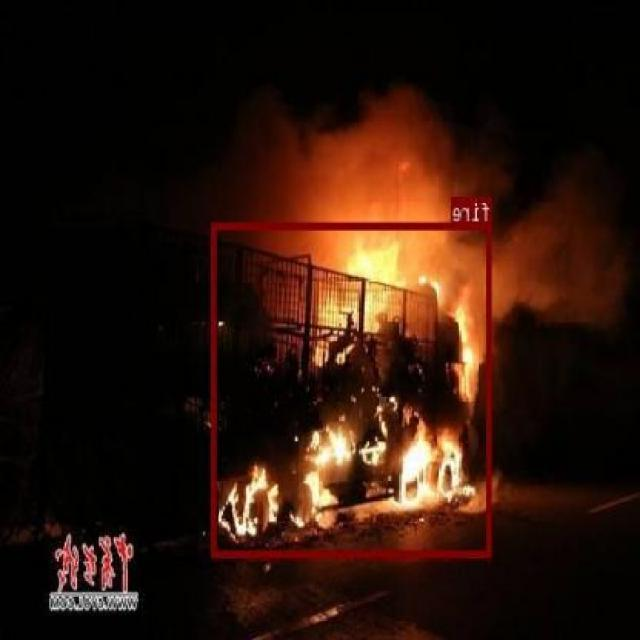Fire: (213, 222, 493, 556)
